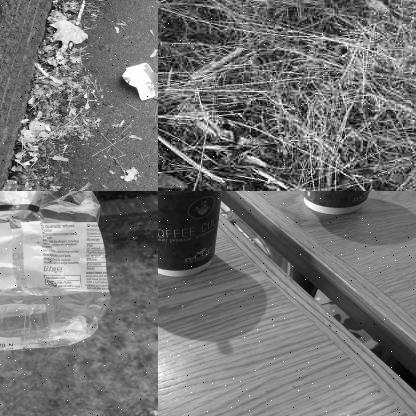plastic: (0, 191, 114, 351), (158, 191, 225, 278), (296, 191, 403, 218), (118, 58, 157, 109)
